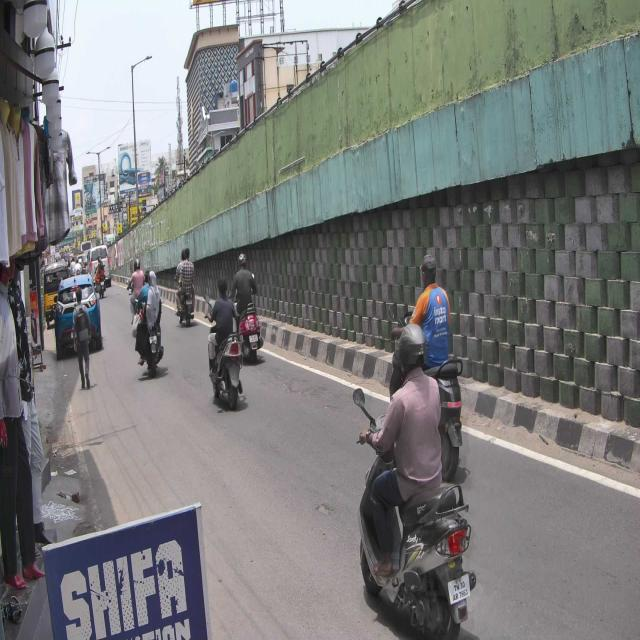single_rider: (353, 324, 475, 640), (202, 273, 245, 404)
